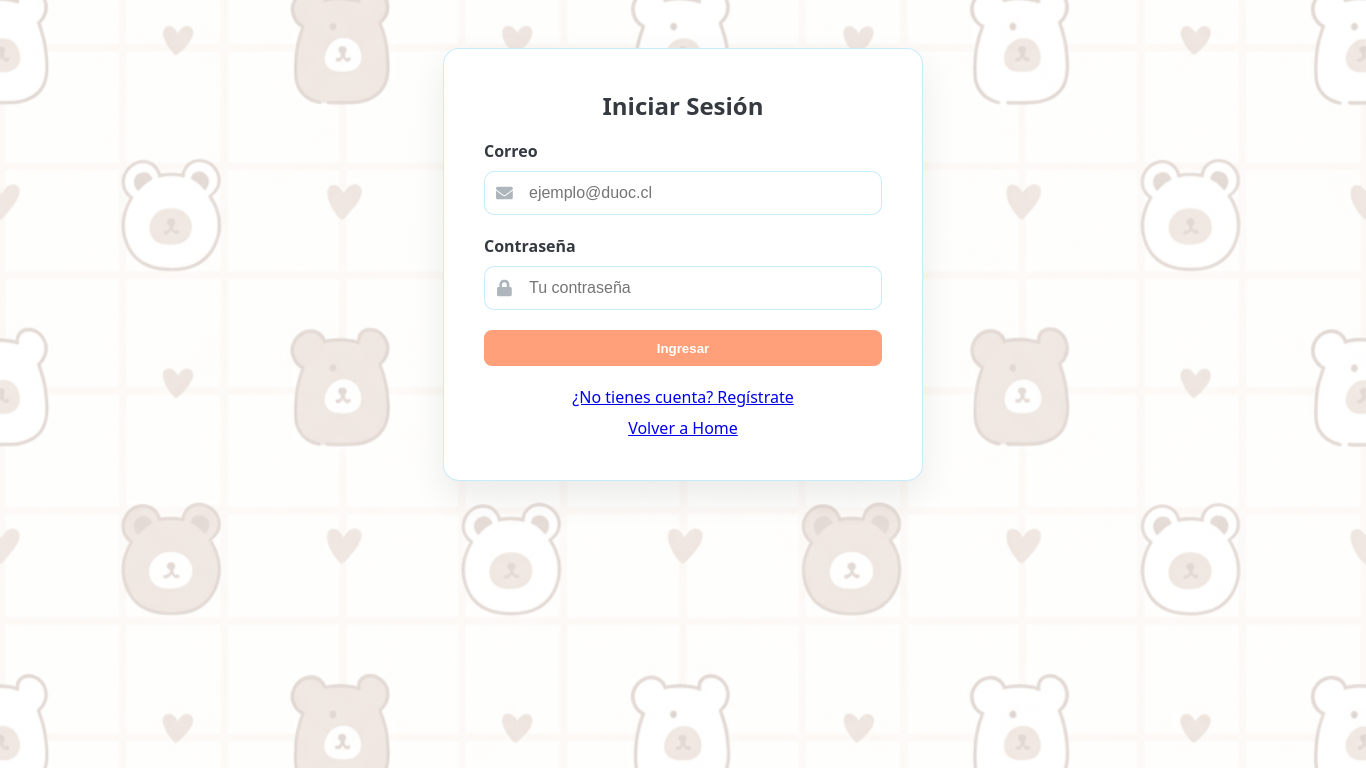
Componente: LoginForm (inicio.jsx) › debería mostrar error si las credenciales son incorrectas (fetch ok: false)
In the field labelled "Correo": (683, 193) [484, 171, 882, 215], type "cliente@test.com"
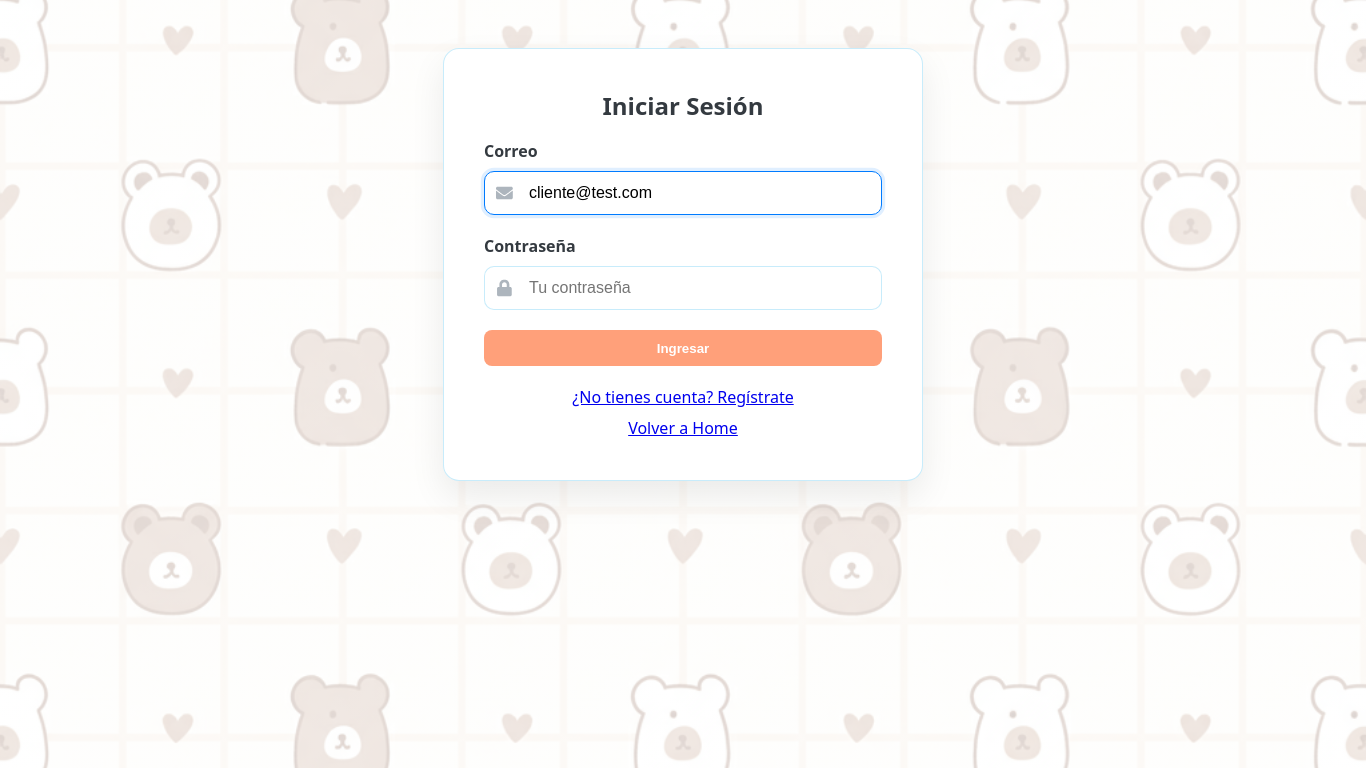
In the password field labelled "Contraseña": (683, 288) [484, 266, 882, 310], type "cliente123"
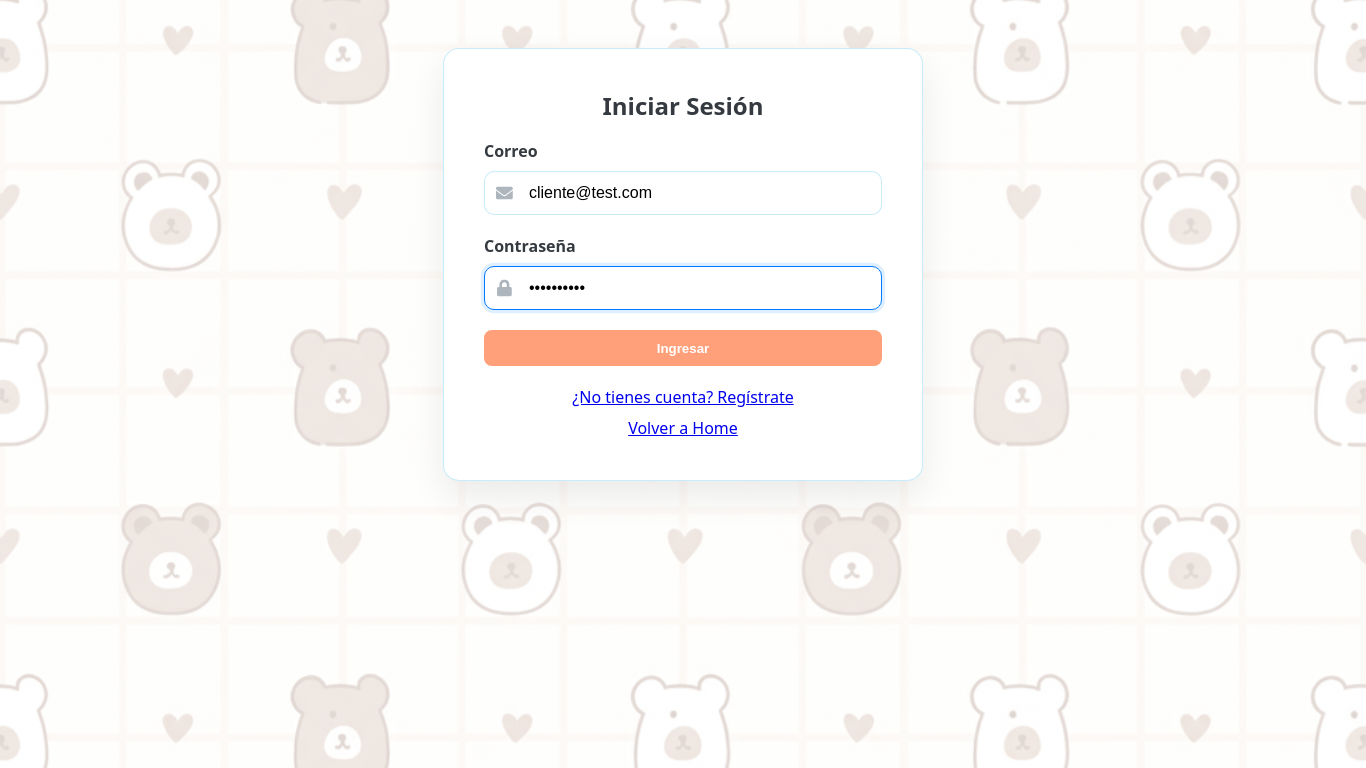
Click the button "Ingresar": (683, 348) [484, 330, 882, 366]
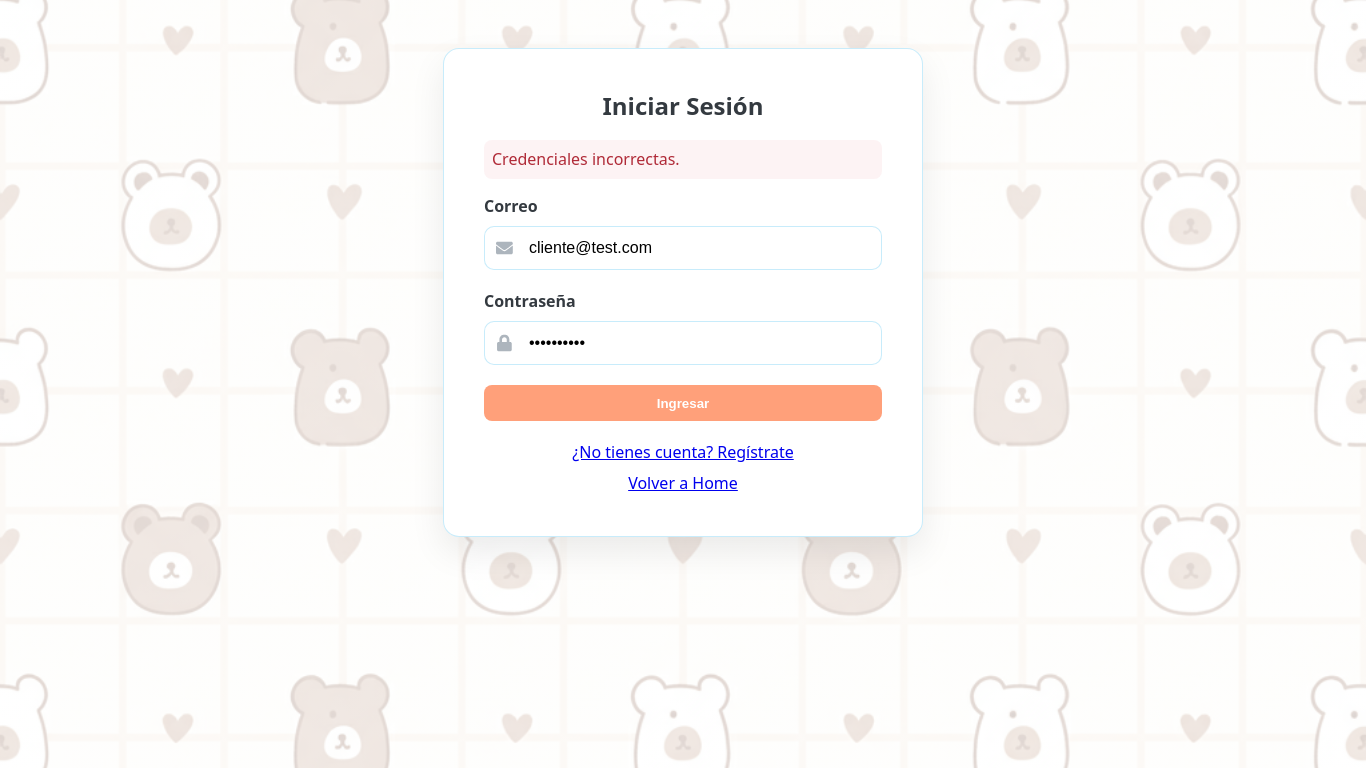
Now the text "Credenciales incorrectas." is shown, box [484, 140, 882, 179]
